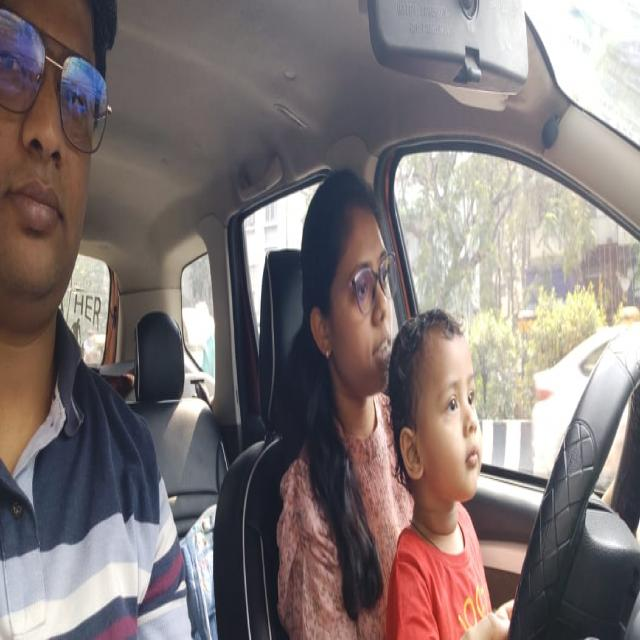child: (391, 300, 488, 549)
person: (0, 0, 116, 338), (300, 164, 397, 412)
